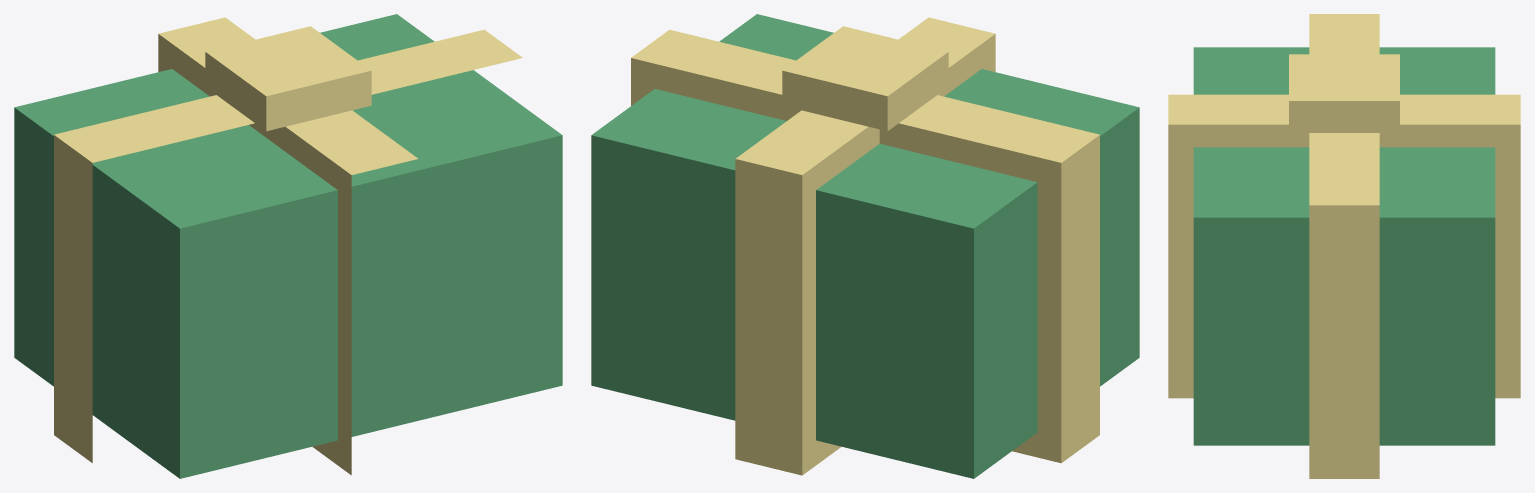
Rendered from parcel_green.glb.
3 views of the same model, side by side, from view 1: azimuth 30°, elevation 25°; view 2: azimuth 150°, elevation 25°; view 3: azimuth 270°, elevation 25° (orthographic). The views are drawn at different scales.
Parts seen in each view (by area): view 1: Box, TwZ, TwX, Knot; view 2: Box, TwZ, TwX, Knot; view 3: Box, TwZ, TwX, Knot.
Boxes of the visible parts, x1,y1,x2,y2 form: Box: [14, 14, 562, 478]; TwZ: [54, 29, 522, 462]; TwX: [158, 17, 418, 475]; Knot: [205, 26, 371, 131]; Box: [591, 14, 1139, 478]; TwZ: [631, 29, 1099, 463]; TwX: [735, 17, 995, 475]; Knot: [782, 26, 948, 131]; Box: [1193, 47, 1495, 445]; TwZ: [1309, 14, 1379, 478]; TwX: [1168, 94, 1520, 398]; Knot: [1289, 54, 1399, 132].
Bounding box in the file's own units: 0.9 × 0.67 × 0.7.
